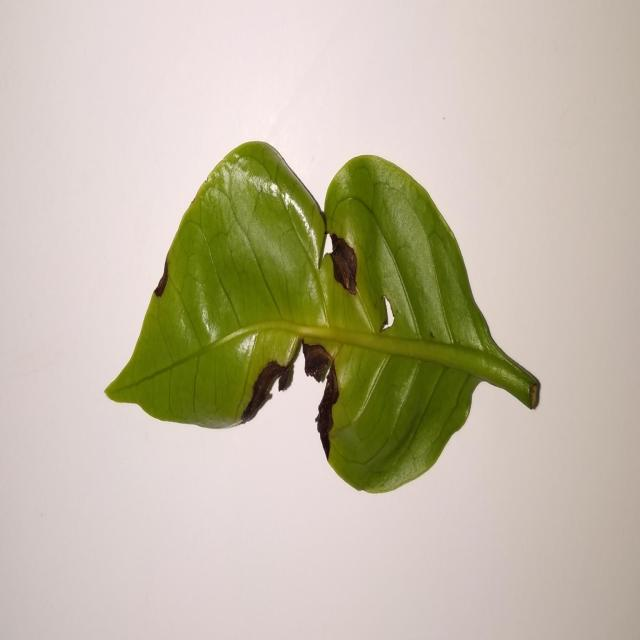Enfermedad-Antracnosis: (103, 141, 541, 498)
